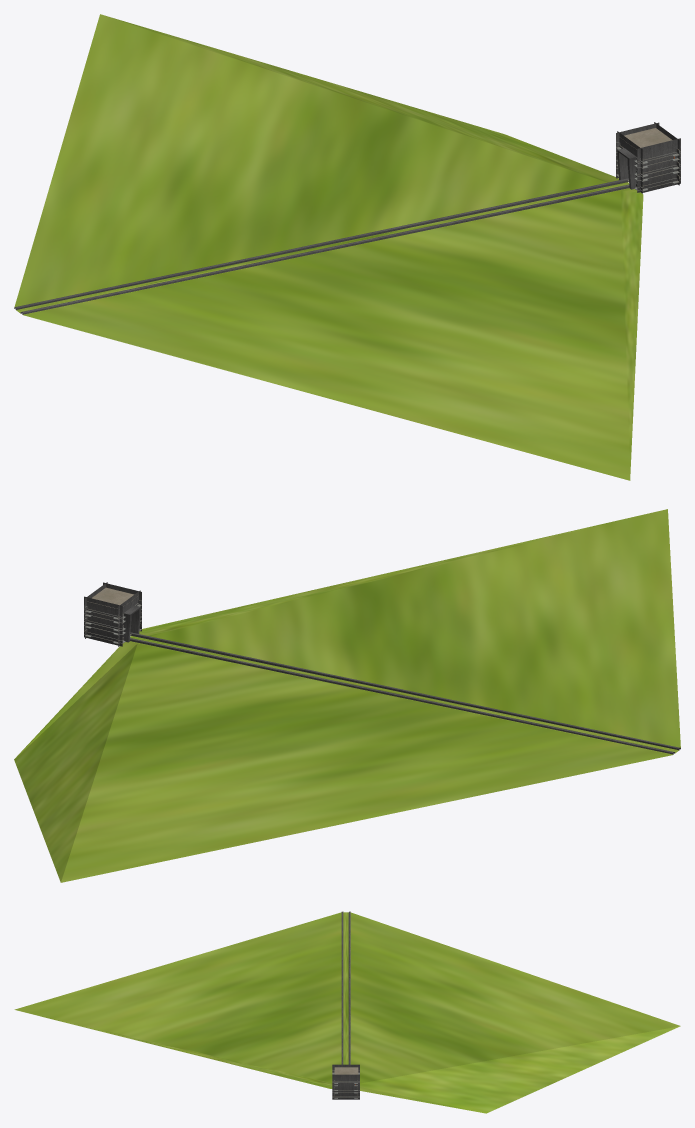
Rendered from vab.obj.
The picture shows the model from 3 angles, top to bottom: view 1: azimuth 30°, elevation 25°; view 2: azimuth 150°, elevation 25°; view 3: azimuth 270°, elevation 25°; orthographic projection. The views are drawn at different scales.
Parts seen in each view (by area): view 1: wall; view 2: wall; view 3: wall.
Part boxes in pixels (x1=…): wall: x1=14, y1=14, x2=680, y2=480; wall: x1=14, y1=509, x2=680, y2=882; wall: x1=14, y1=911, x2=680, y2=1113.
Size of the model in its own units: 150 by 19.25 by 241.
7 materials, 7 textured.
